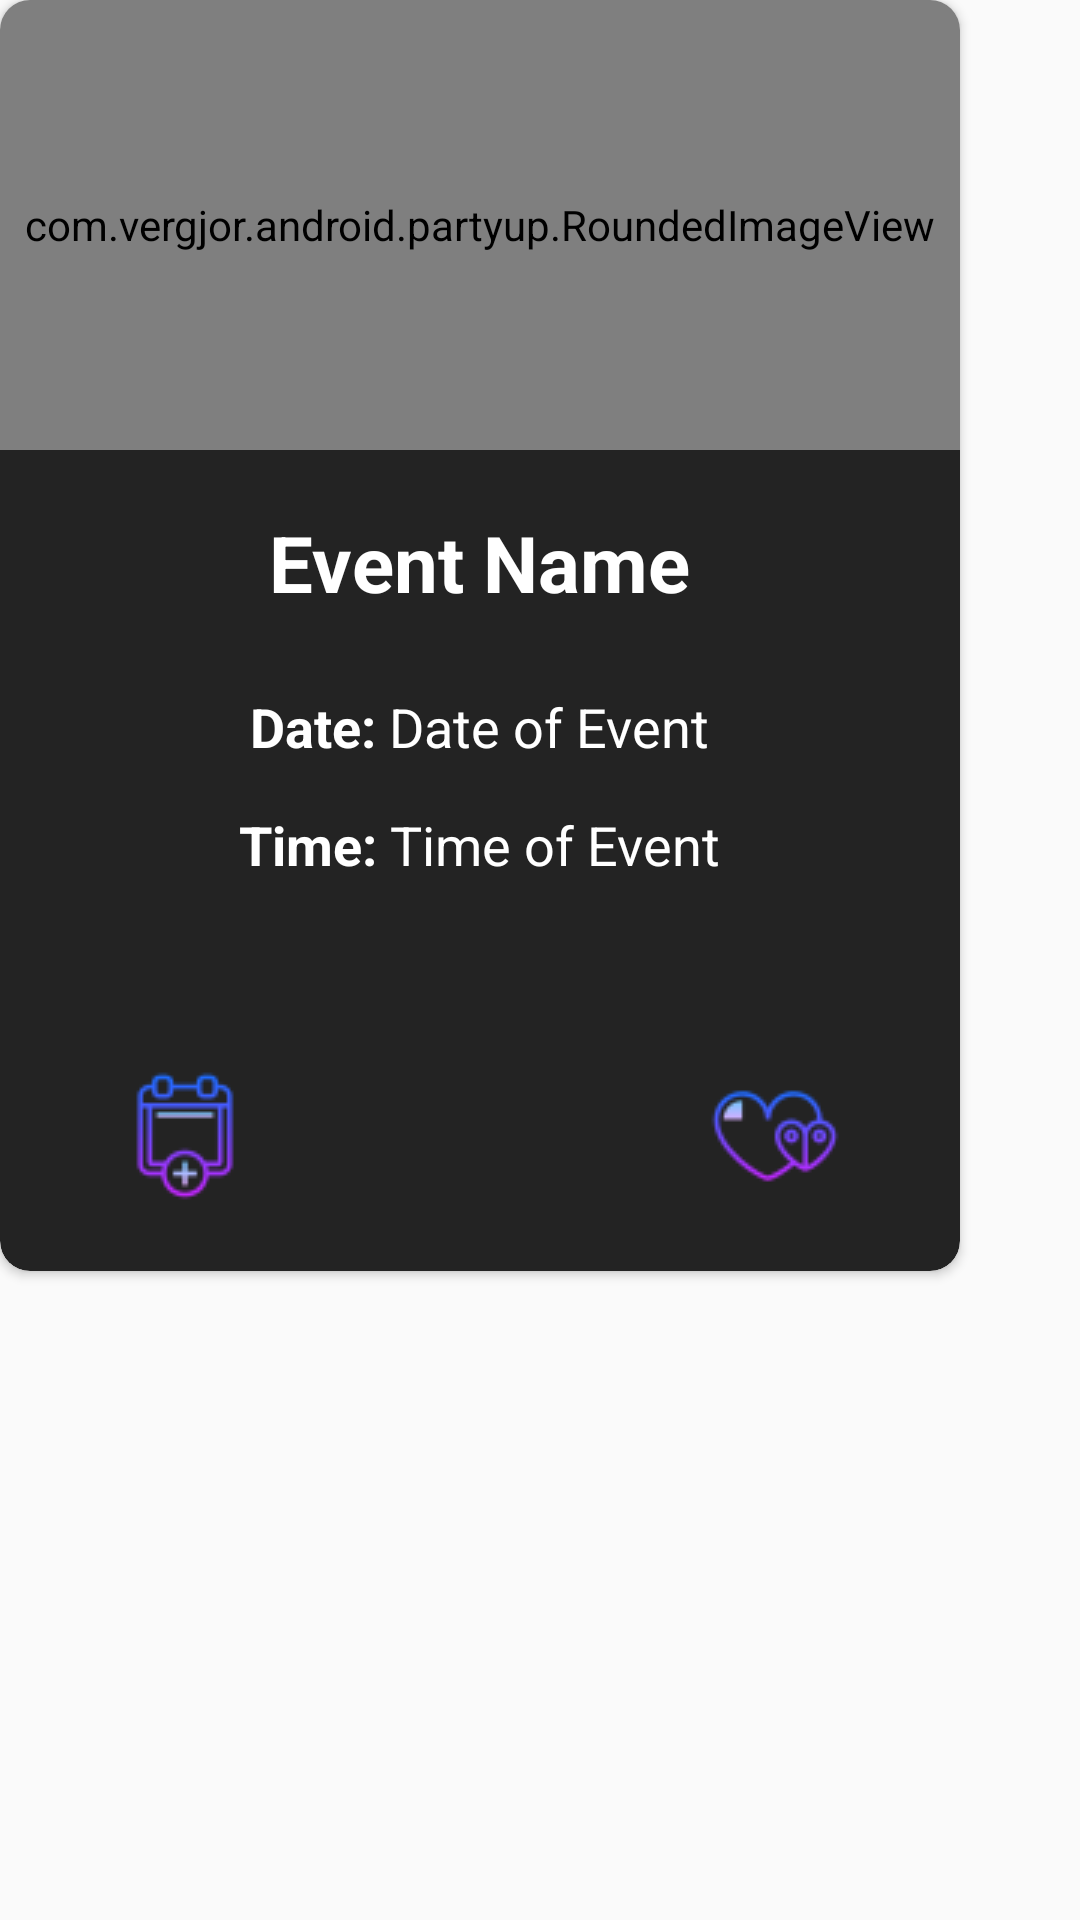

Named icons in this screenshot (1080 × 1920) and their centers, (x=x, y=y):
like: (x=775, y=1136)
Make a reservation: (x=185, y=1136)
